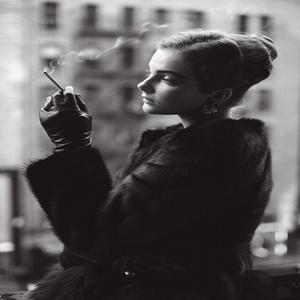cigarette: (44, 69, 66, 93)
